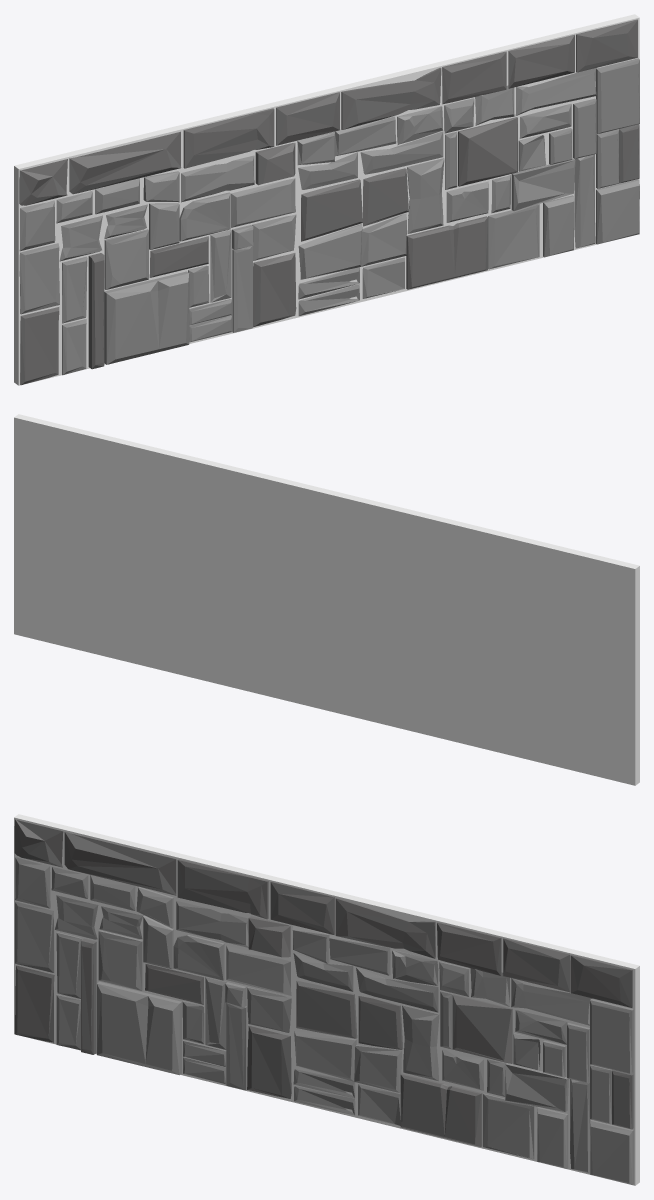
The model's file is _FOUNDATION_02_1.fbx.
The picture shows the model from 3 angles, top to bottom: view 1: azimuth 30°, elevation 25°; view 2: azimuth 150°, elevation 25°; view 3: azimuth 330°, elevation 25°; orthographic projection.
Parts seen in each view (by area): view 1: FOUNDATION_02_1; view 2: FOUNDATION_02_1; view 3: FOUNDATION_02_1.
Part boxes in pixels (box(x1,y1,x2,y2)): FOUNDATION_02_1: box(14, 14, 639, 385); FOUNDATION_02_1: box(14, 414, 639, 785); FOUNDATION_02_1: box(14, 814, 639, 1185).
Bounding box in the file's own units: 300 × 100 × 8.56.
